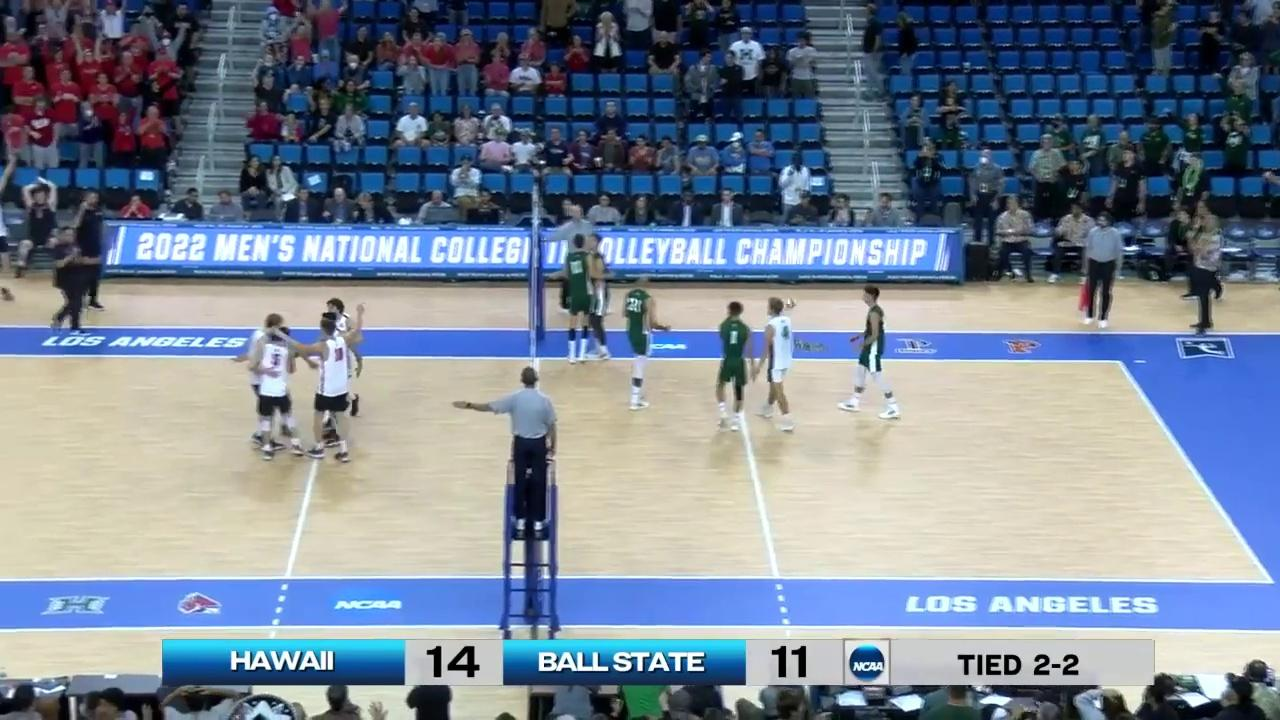player: (838, 286, 898, 417), (750, 298, 806, 433), (623, 276, 673, 410), (257, 329, 306, 459), (309, 320, 352, 461), (246, 314, 289, 449), (315, 297, 361, 417), (712, 299, 752, 431), (575, 235, 614, 361), (314, 313, 348, 444), (562, 233, 592, 366)
refree: (497, 366, 563, 528), (1081, 212, 1128, 325)
